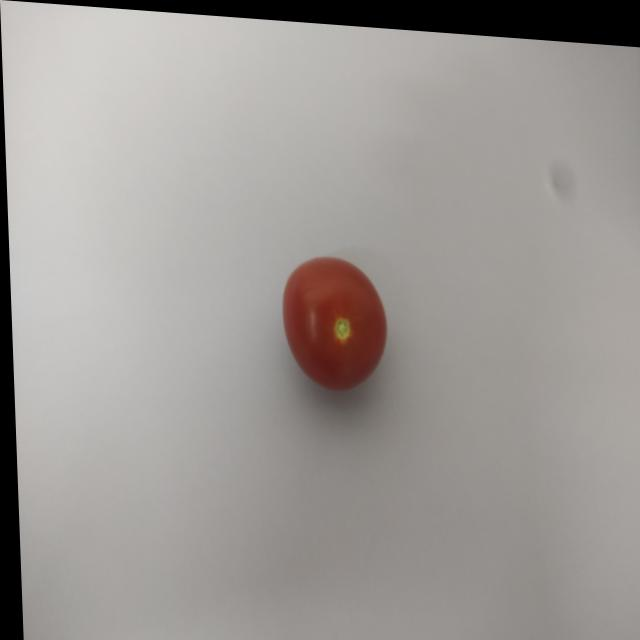kirmizi: (257, 228, 403, 404)
